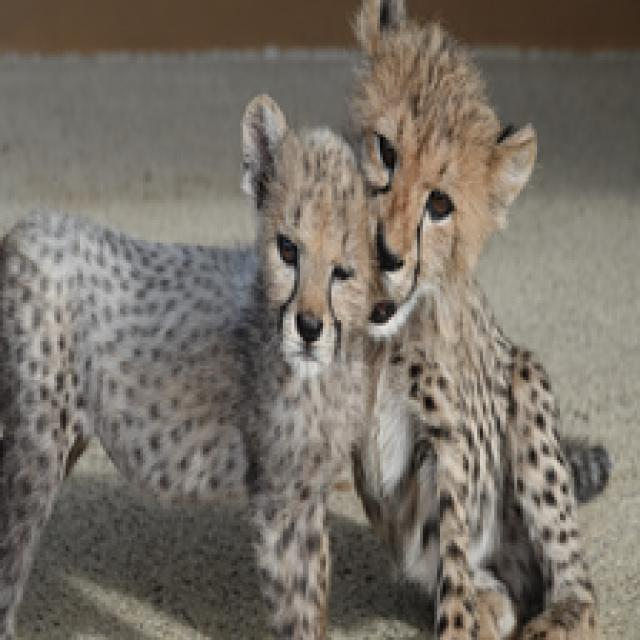cheetah: (0, 70, 359, 635), (325, 0, 611, 640)
